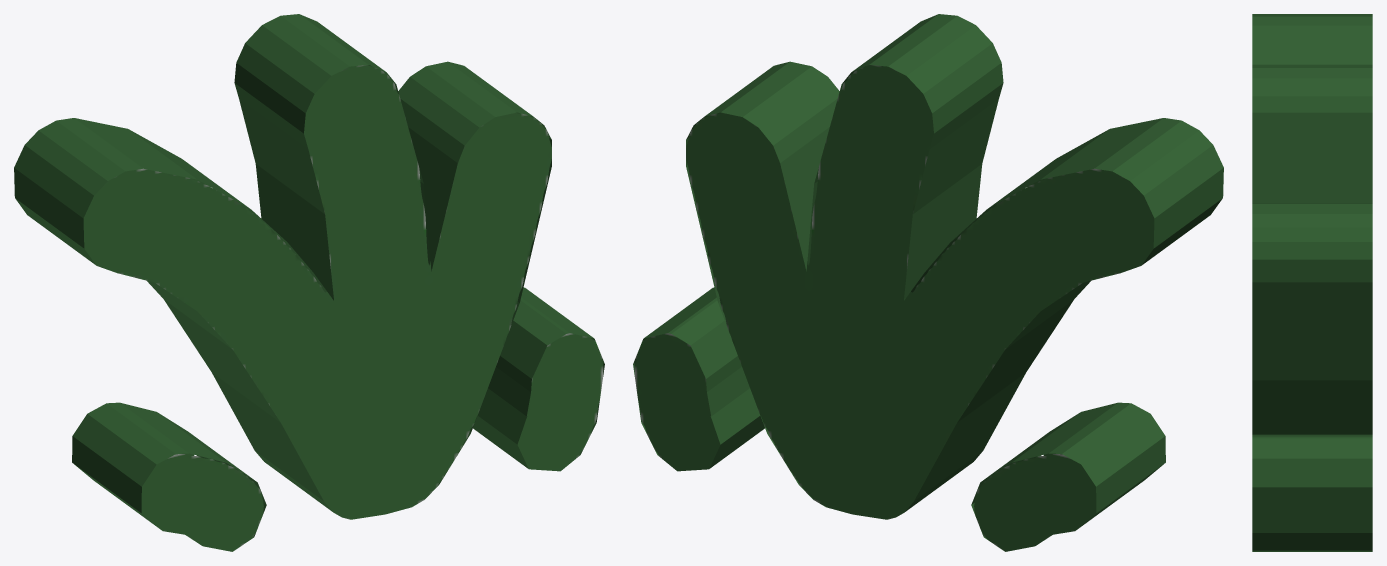
The model's file is GrassTuft04.fbx.
3 views of the same model, side by side, from view 1: azimuth 30°, elevation 25°; view 2: azimuth 150°, elevation 25°; view 3: azimuth 270°, elevation 25° (orthographic). The views are drawn at different scales.
Visible parts, largest first — view 1: Grass04; view 2: Grass04; view 3: Grass04.
Boxes of the visible parts, box(x1,y1,x2,y2) form: Grass04: box(14, 14, 604, 551); Grass04: box(633, 14, 1223, 551); Grass04: box(1252, 14, 1372, 551).
Bounding box in the file's own units: 0.2059 × 0.1723 × 0.0475.
